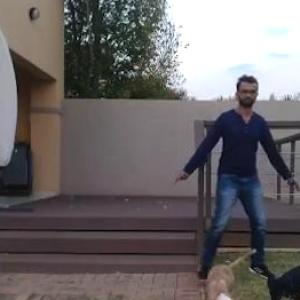land: (178, 77, 299, 290)
